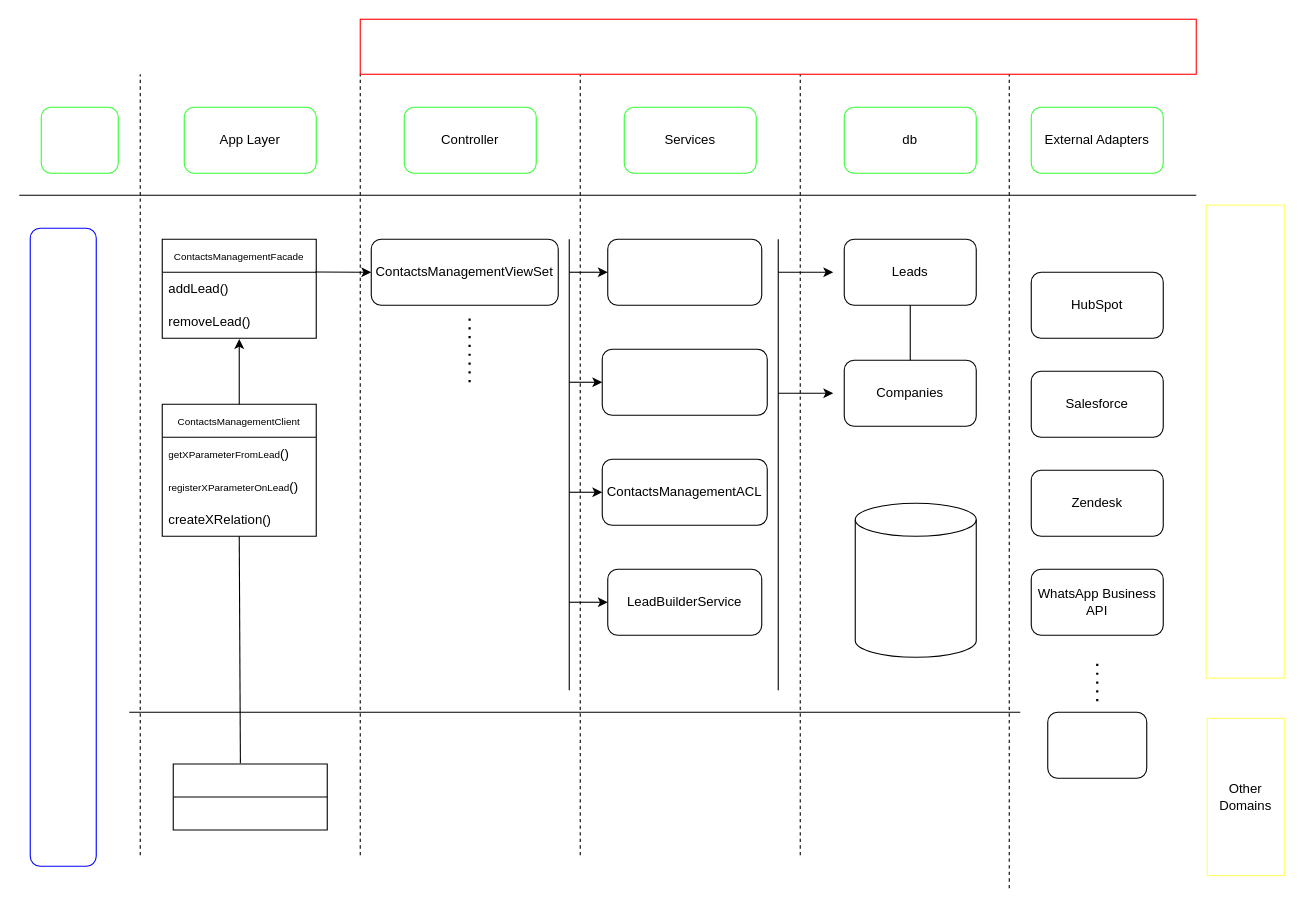
This 1304x909 diagram has some shape labels left out. Each missing label, with the centre of its shape:
Contacts Management Domain: point 1244,441
FE: point 79,139
Infrastructure Layer: point 777,46
OtherDomainsClients: point 249,796
otras...: point 1097,744
Portal Web: point 62,546
PostgreSQL: point 915,579
ProvideLeadInfoService: point 684,381
RegisterLeadInfoService: point 684,271
